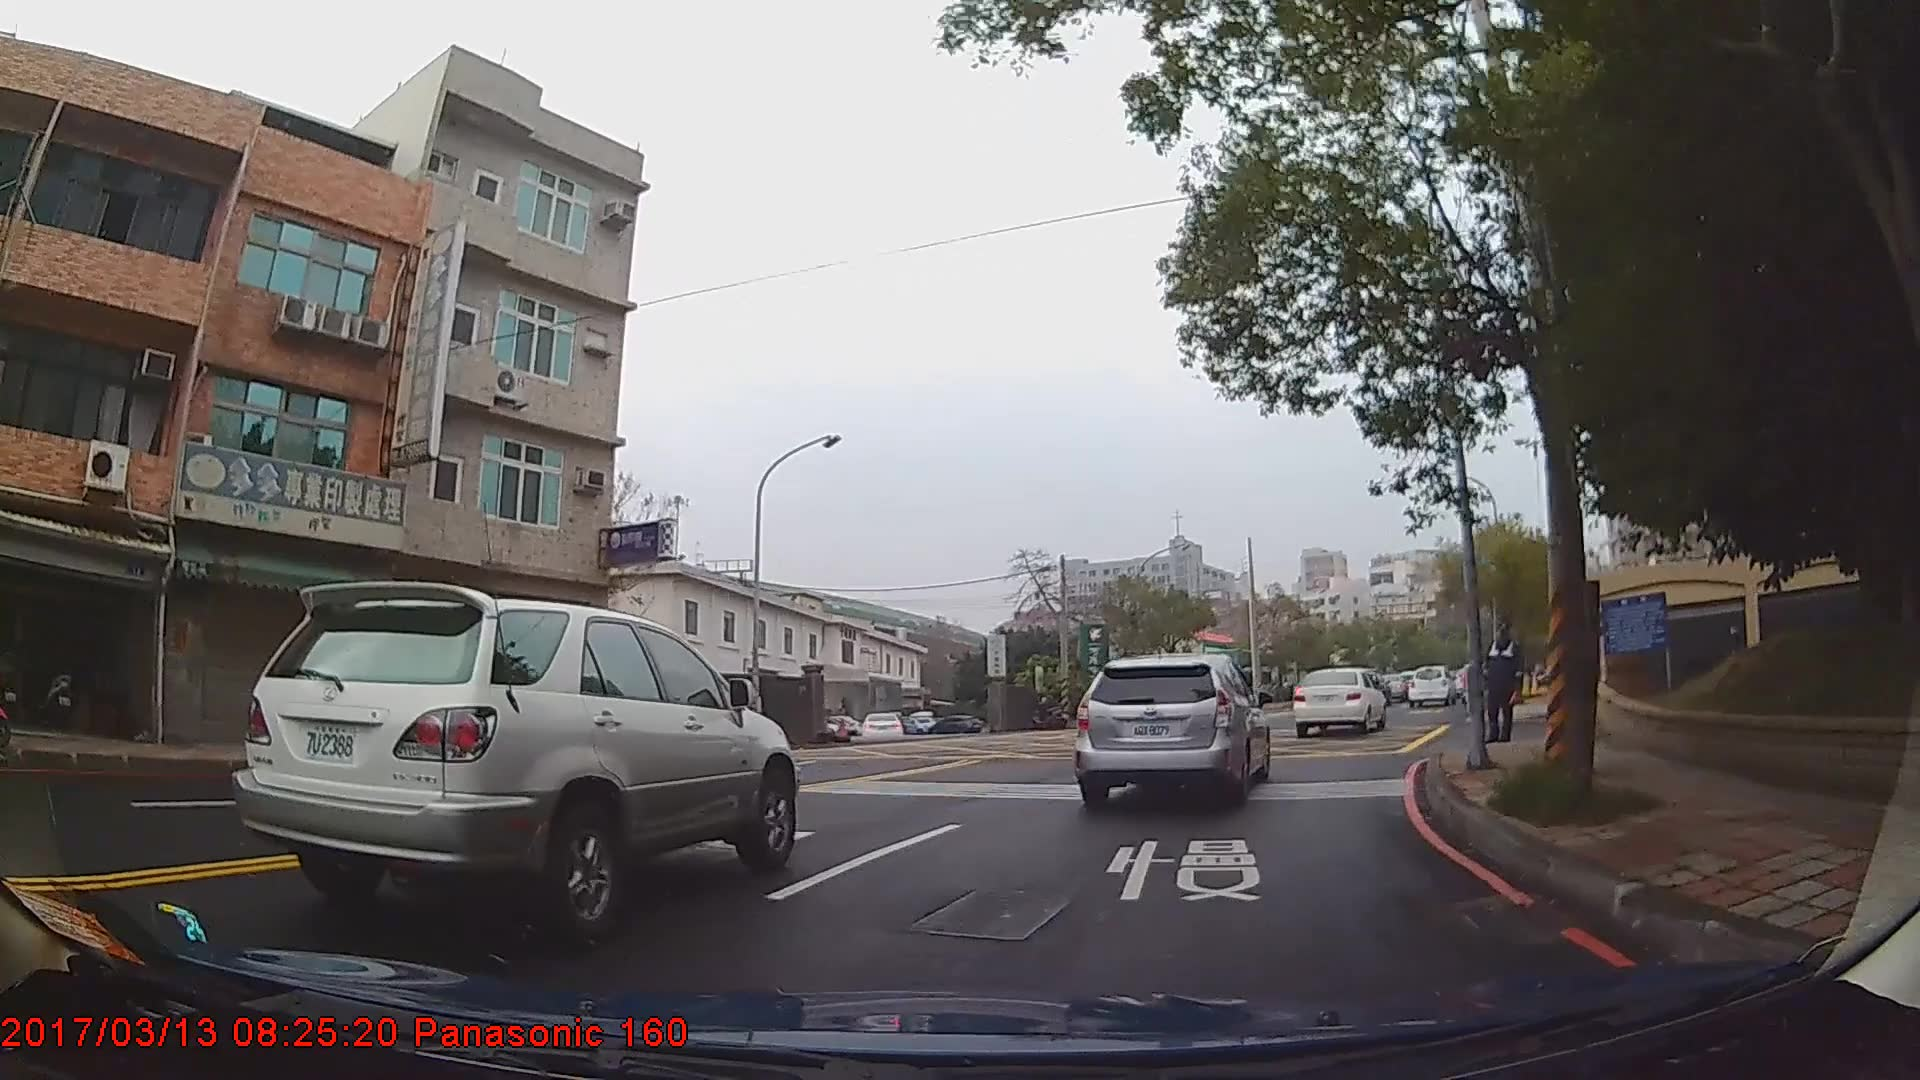pedestrian: (1483, 622, 1527, 745)
vehicle: (230, 583, 799, 941), (1069, 654, 1269, 806), (1290, 666, 1387, 737), (1405, 665, 1456, 709), (859, 712, 906, 742), (924, 714, 982, 735)
